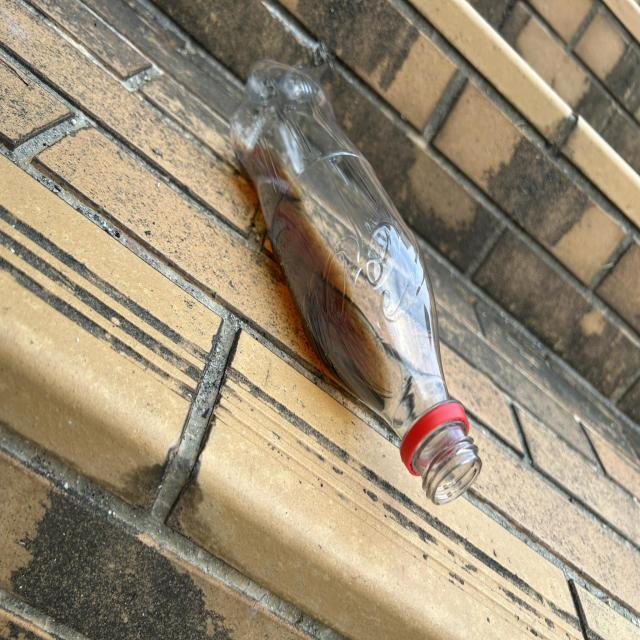low: (230, 60, 482, 504)
